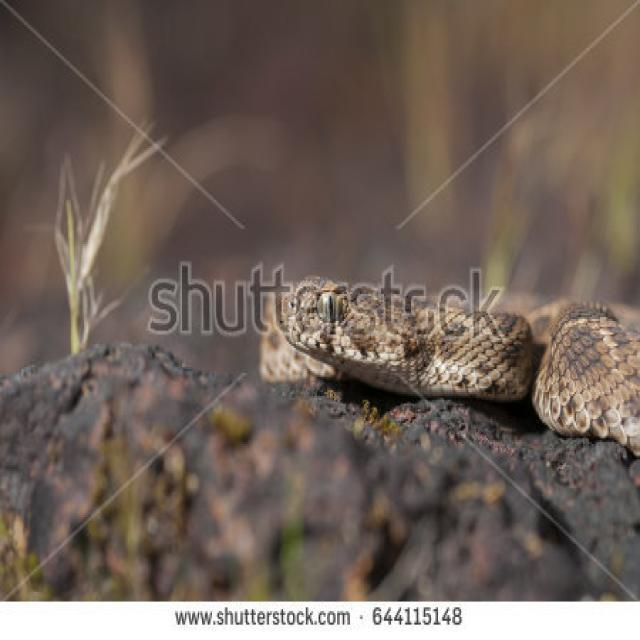Snake: (257, 271, 638, 463)
